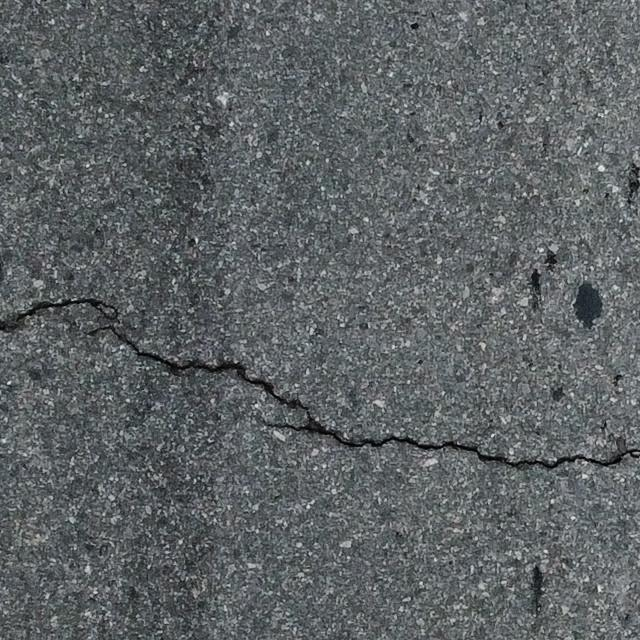TransverseCrack: (1, 299, 640, 473)
